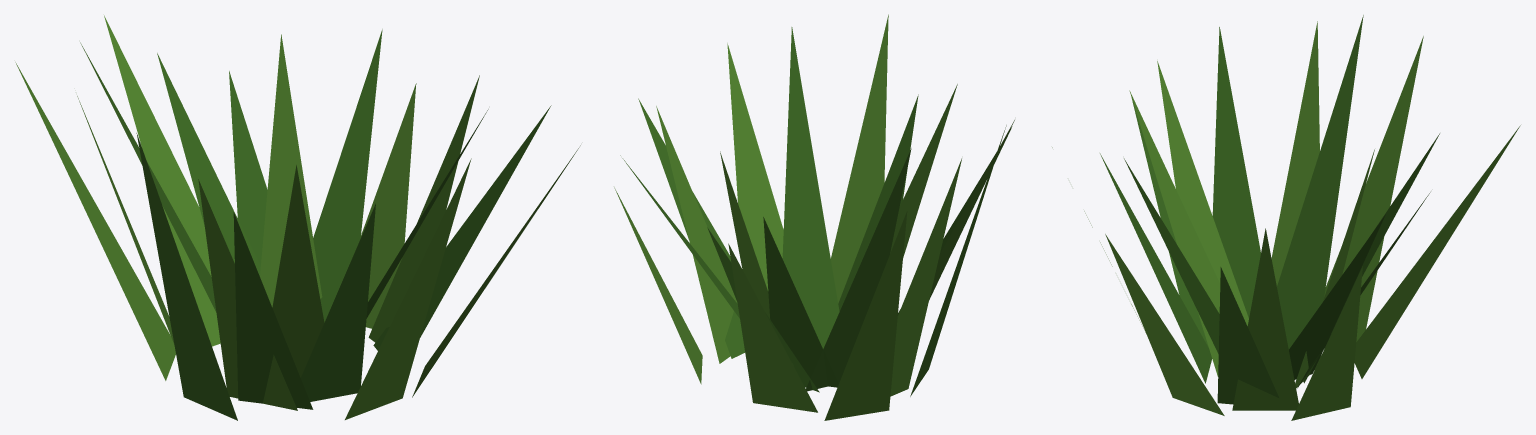
Rendered from green_grass.glb.
3 views of the same model, side by side, from view 1: azimuth 30°, elevation 25°; view 2: azimuth 150°, elevation 25°; view 3: azimuth 270°, elevation 25° (orthographic). The views are drawn at different scales.
Parts seen in each view (by area): view 1: green_grass2; view 2: green_grass2; view 3: green_grass2.
Boxes of the visible parts, x1,y1,x2,y2 form: green_grass2: (15,15,580,420); green_grass2: (614,14,1014,420); green_grass2: (1052,15,1520,420).
Size of the model in its own units: 1.12 by 0.846 by 1.26.
